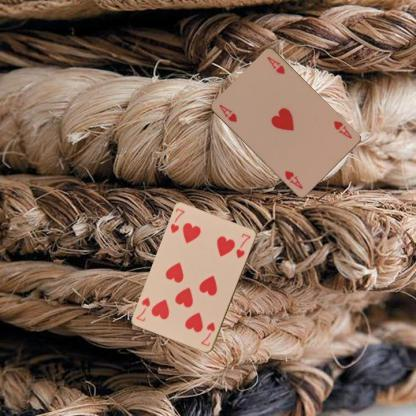7h: (198, 320, 217, 348), (168, 206, 186, 235)
Ah: (330, 116, 353, 140), (216, 102, 239, 124)
